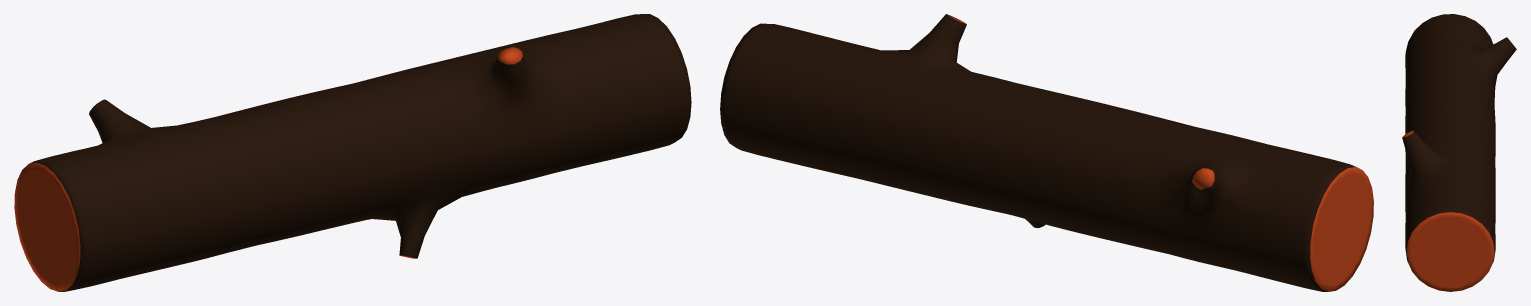
The model's file is SolidLog.fbx.
The picture shows the model from 3 angles, left to right: view 1: azimuth 30°, elevation 25°; view 2: azimuth 150°, elevation 25°; view 3: azimuth 270°, elevation 25°; orthographic projection. The views are drawn at different scales.
Visible parts, largest first — view 1: solid_log_00; view 2: solid_log_00; view 3: solid_log_00.
Boxes of the visible parts, x1,y1,x2,y2 form: solid_log_00: (14,14,691,291); solid_log_00: (720,14,1373,291); solid_log_00: (1402,14,1516,291).
Bounding box in the file's own units: 150 × 45.15 × 36.73.
